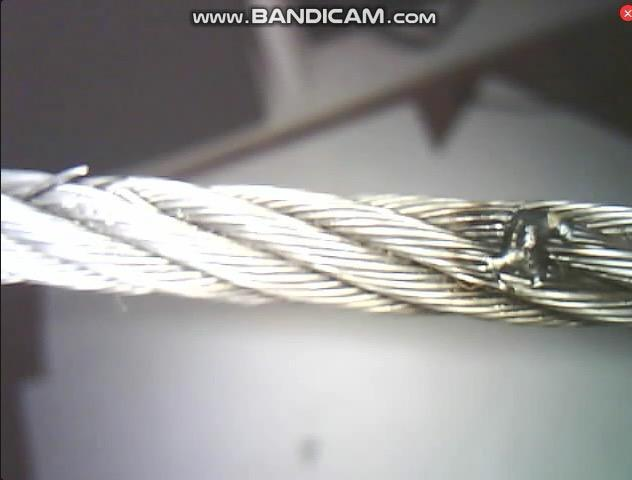break: (37, 155, 108, 199)
thunderbolt: (480, 193, 591, 290)
